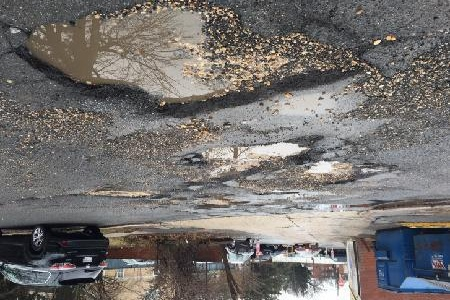pothole: (12, 1, 370, 120), (176, 131, 320, 184), (296, 158, 377, 187), (76, 189, 149, 200), (201, 198, 233, 210)
